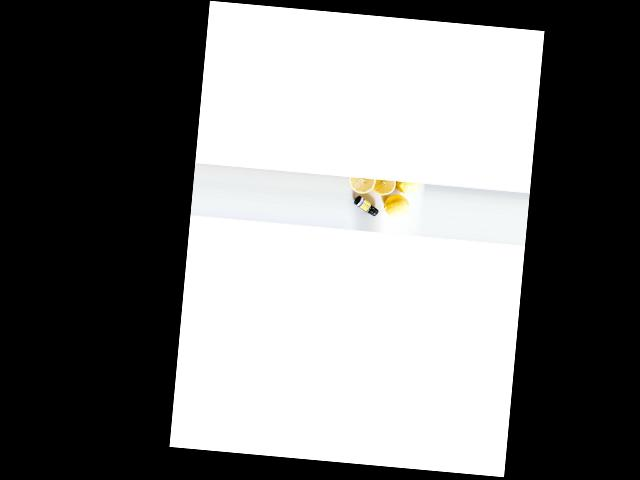lemon: (383, 195, 410, 215)
